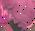without_mask: (1, 1, 35, 31)
